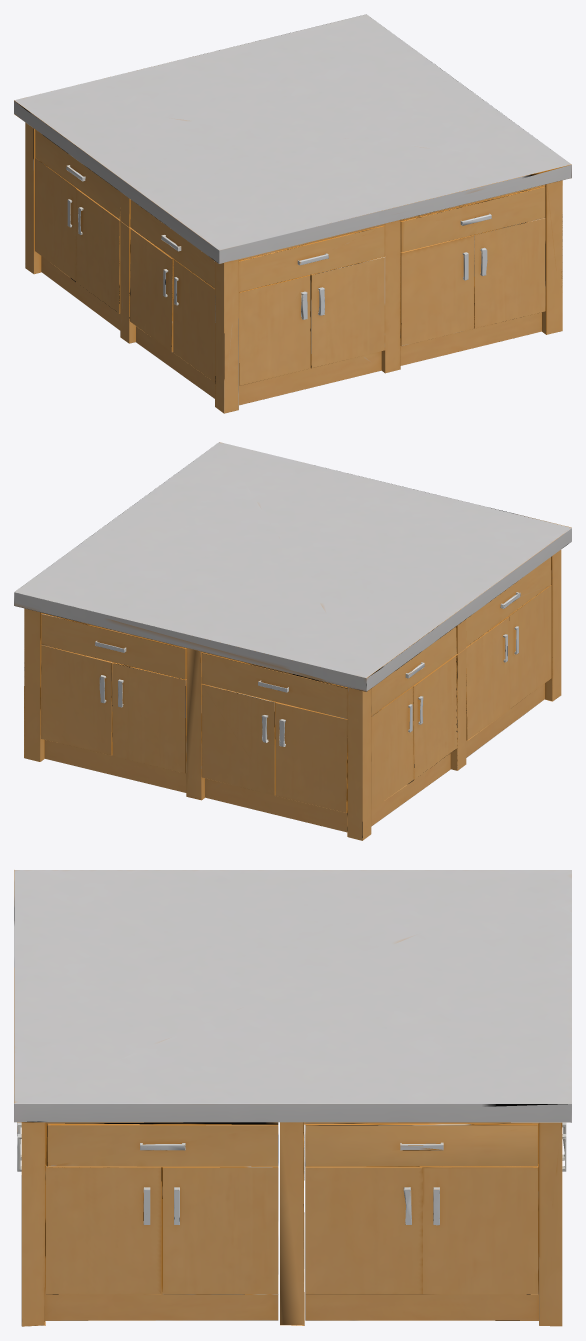
File: SquareIslandLabTable.glb
3 views of the same model, one above another, from view 1: azimuth 30°, elevation 25°; view 2: azimuth 150°, elevation 25°; view 3: azimuth 270°, elevation 25° (orthographic). The views are drawn at different scales.
Parts seen in each view (by area): view 1: geometry_0; view 2: geometry_0; view 3: geometry_0.
Part boxes in pixels (bbox=[...]): geometry_0: bbox=[14, 14, 571, 413]; geometry_0: bbox=[14, 442, 571, 840]; geometry_0: bbox=[14, 870, 571, 1326].
Bounding box in the file's own units: 0.9414 × 0.4277 × 0.9487.
Materials: 1 (1 with a texture image).
